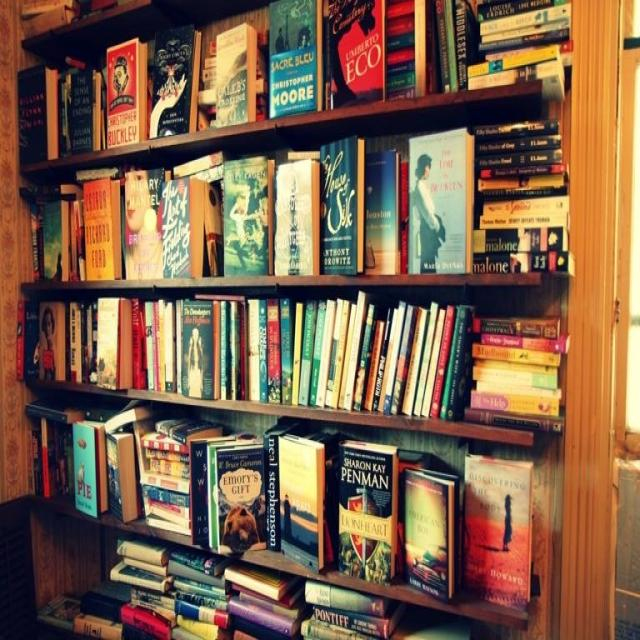book: (462, 456, 529, 610), (337, 442, 397, 586), (409, 128, 468, 272), (138, 421, 212, 535), (402, 460, 459, 601), (207, 436, 267, 556), (276, 431, 327, 570), (323, 0, 382, 109), (172, 154, 224, 274), (268, 2, 320, 116), (150, 25, 199, 138), (321, 137, 360, 273), (275, 157, 319, 277), (223, 164, 270, 272), (122, 171, 166, 280), (365, 147, 401, 275), (246, 296, 288, 404), (106, 37, 145, 147), (432, 0, 476, 94), (214, 23, 254, 126), (306, 599, 406, 639), (30, 414, 77, 499), (440, 304, 473, 423), (477, 1, 572, 42), (82, 177, 118, 281), (102, 426, 140, 523), (229, 592, 309, 638), (17, 65, 53, 167), (181, 299, 217, 400), (139, 297, 176, 391), (159, 175, 192, 280), (95, 296, 132, 389), (72, 420, 105, 517), (470, 44, 568, 76), (385, 1, 417, 98), (225, 562, 302, 602), (473, 195, 568, 226), (43, 197, 77, 280), (352, 302, 377, 412), (66, 66, 96, 157), (475, 226, 569, 254), (467, 408, 559, 435), (471, 392, 560, 418), (307, 300, 328, 408), (39, 301, 66, 383), (475, 315, 564, 339), (472, 366, 559, 390), (472, 344, 564, 366), (475, 331, 567, 353), (111, 560, 172, 593), (154, 416, 220, 446), (36, 595, 84, 635), (298, 302, 316, 406), (474, 134, 562, 155), (476, 150, 566, 170), (476, 174, 568, 193), (473, 120, 563, 138), (172, 576, 228, 604), (23, 299, 40, 380), (68, 302, 82, 383), (30, 202, 43, 278), (144, 301, 154, 389), (16, 300, 26, 377), (75, 166, 117, 182)
